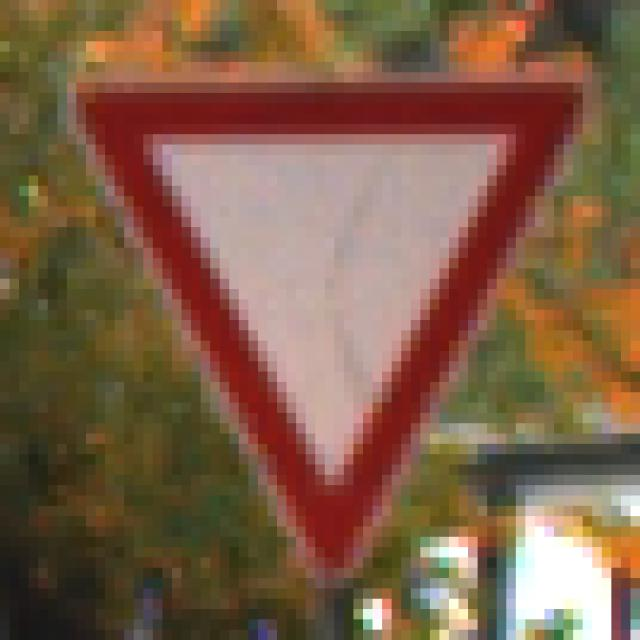Give Way: (58, 53, 584, 579)
